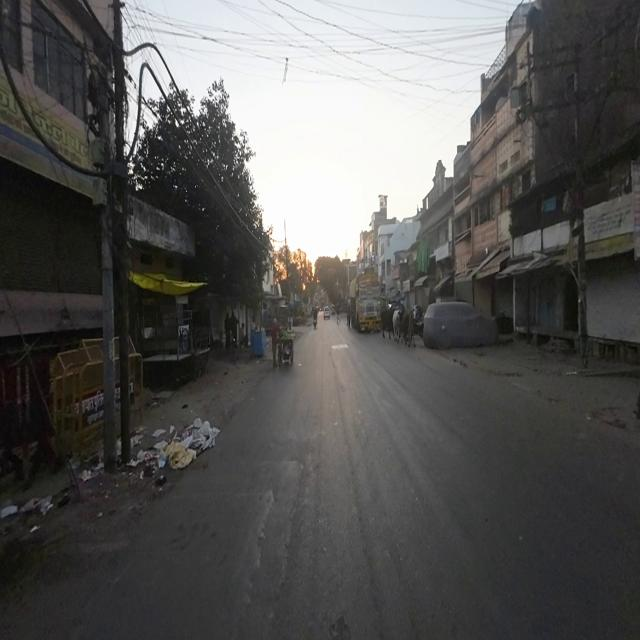Garbage: (130, 410, 214, 476)
